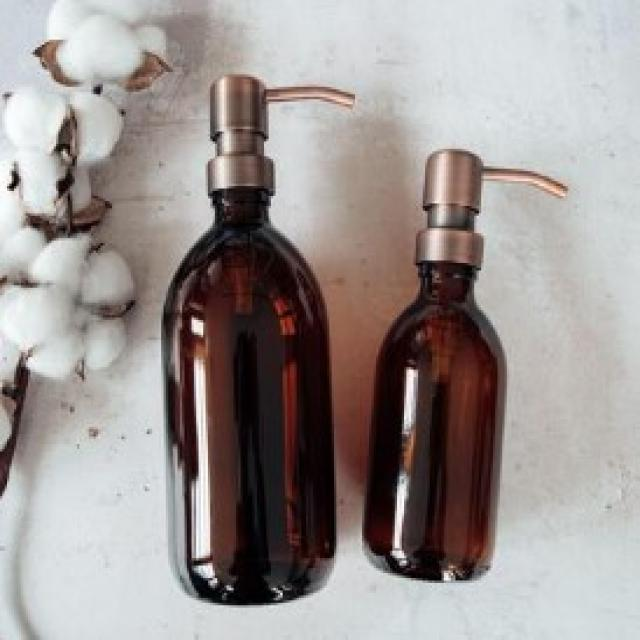electronic: (154, 63, 575, 607)
